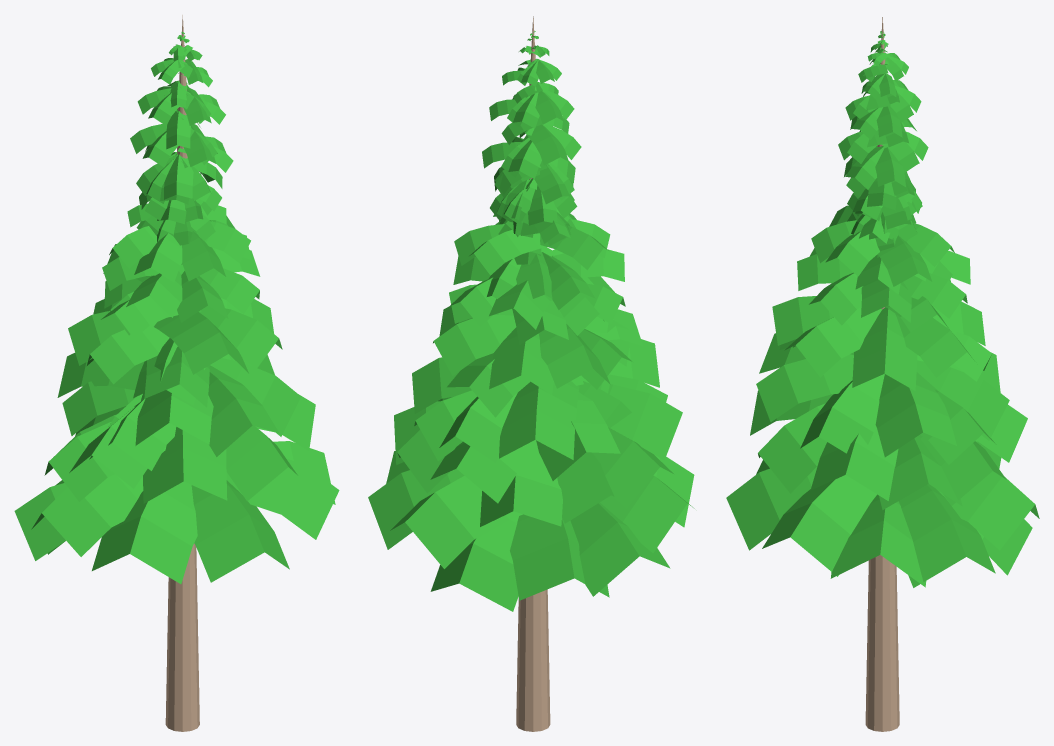
Rendered from tree.fbx.
3 views of the same model, side by side, from view 1: azimuth 30°, elevation 25°; view 2: azimuth 150°, elevation 25°; view 3: azimuth 270°, elevation 25° (orthographic).
Visible parts, largest first — view 1: tree; view 2: tree; view 3: tree.
Boxes of the visible parts, box(x1,y1,x2,y2) form: tree: box(14, 15, 339, 731); tree: box(368, 16, 694, 731); tree: box(726, 17, 1039, 731).
Size of the model in its own units: 335 by 789 by 316.
